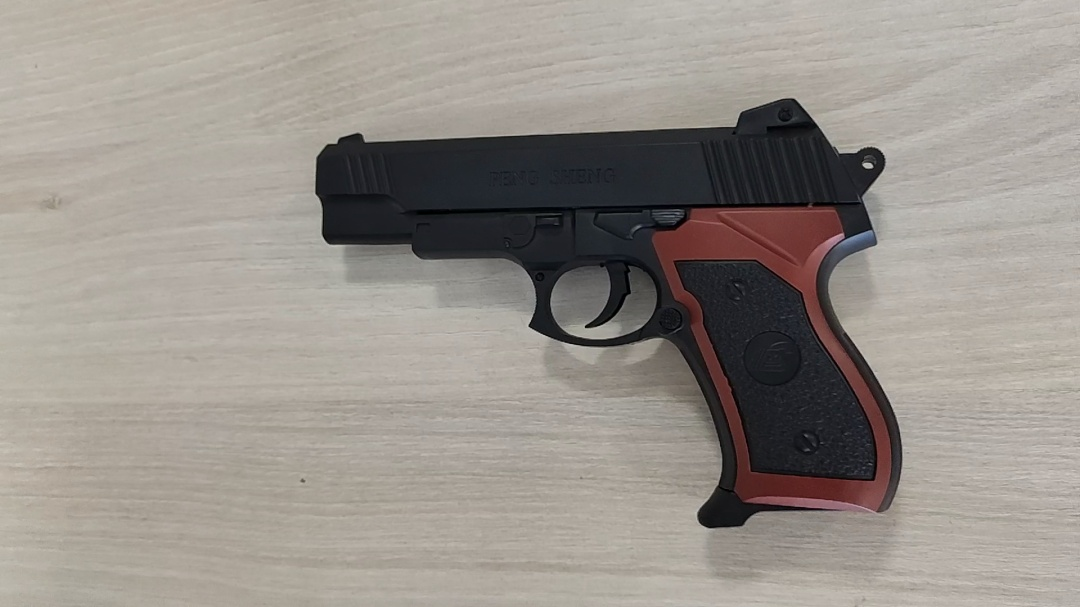gun: (69, 275, 371, 585)
